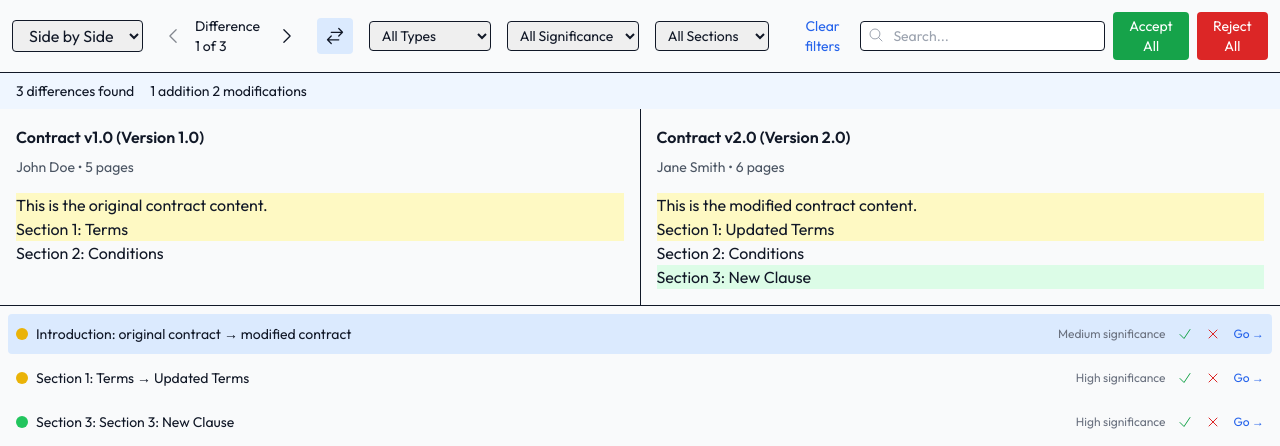
Test case: ComparisonView › Filtering › should filter differences by type
Select "Additions" in the dropdown named "filter by type" at (430, 36), box [369,21,491,51]
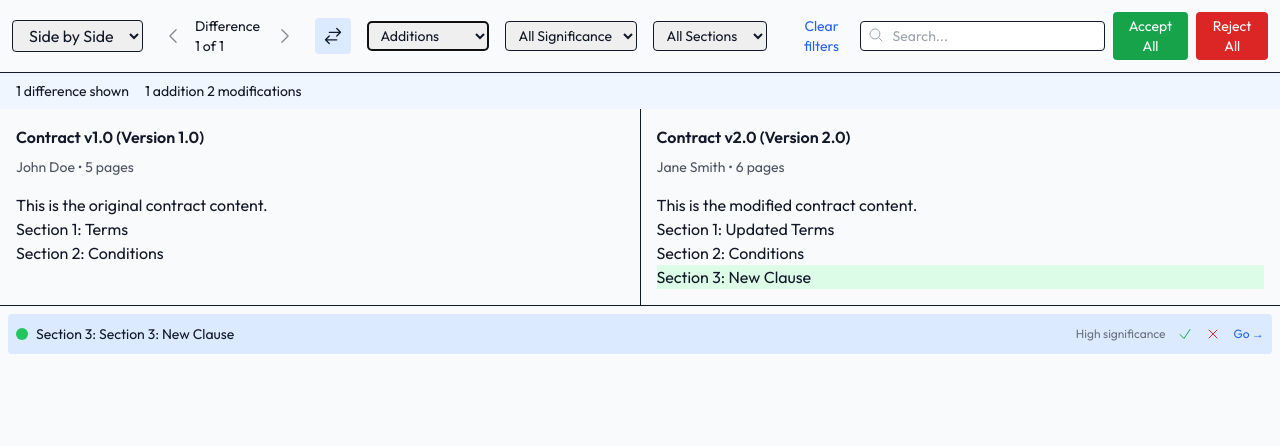
Now the text "1 difference shown1 addition 2 modifications" is shown, box [16,81,302,101]
